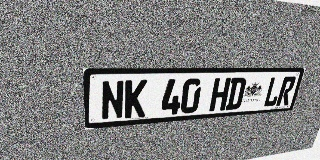0: (180, 78, 202, 114)
4: (161, 79, 183, 115)
D: (225, 77, 247, 110)
H: (209, 78, 231, 111)
K: (124, 80, 147, 118)
L: (262, 77, 284, 107)
N: (101, 80, 124, 120)
R: (276, 76, 297, 106)
